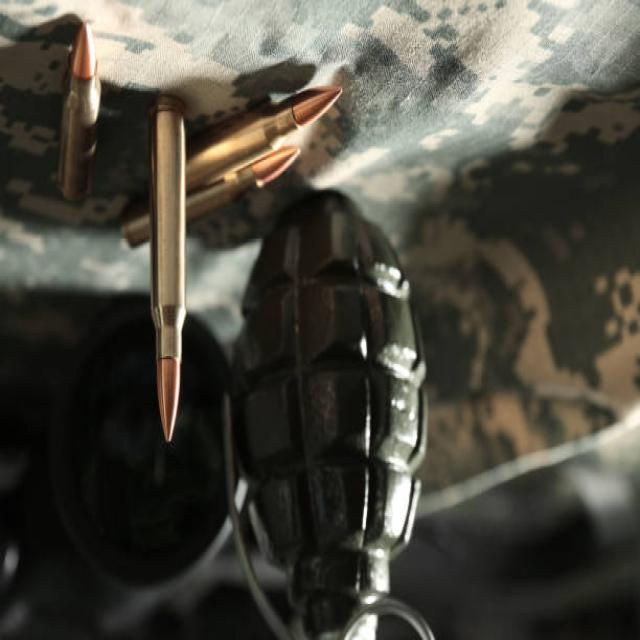grenade: (212, 181, 449, 640)
